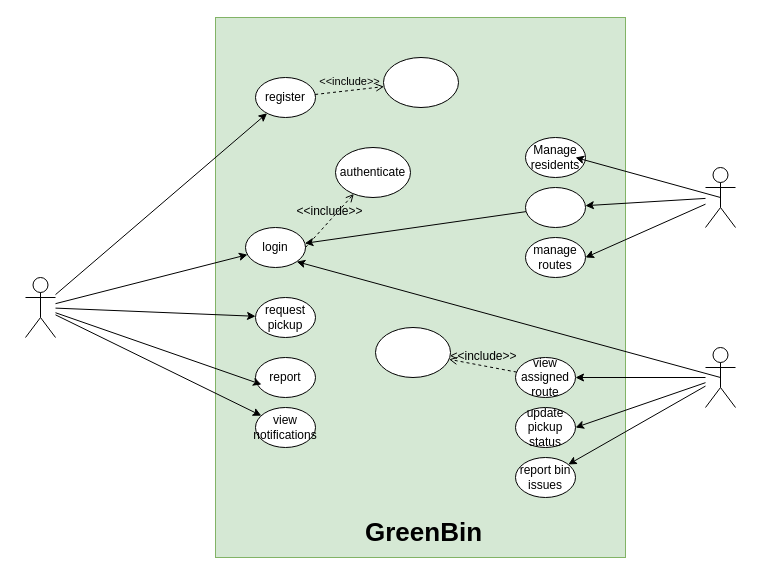
Some shapes in this 761 by 575 pixel diagram are drawn without their labels. Each missing label, with the centre of its shape:
Admin: (720,197)
Collector: (720,377)
Fetch route data: (412,352)
Manage bins: (555,207)
Resident: (40,307)
validate values: (420,82)
